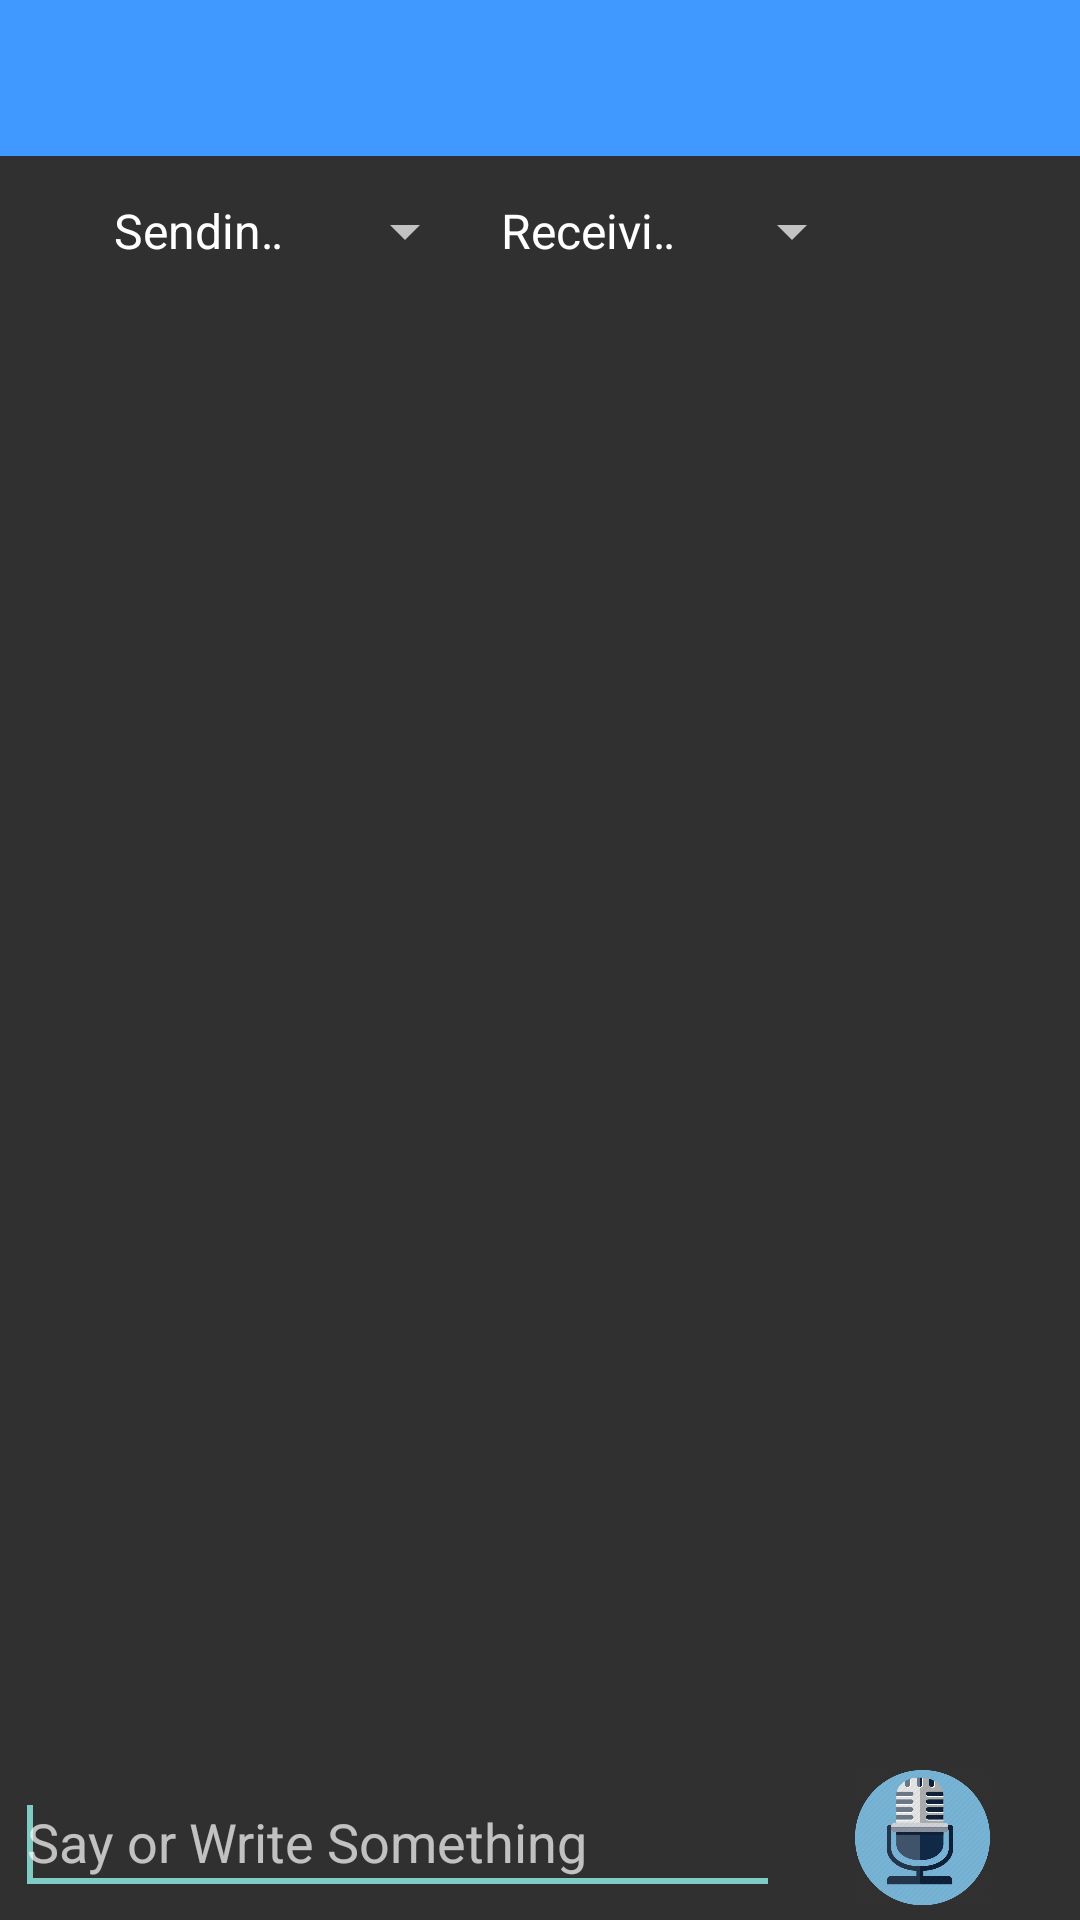

Screen size 1080×1920. Icon name, then its center in pixels as [x,y]:
microphone: [922,1837]
